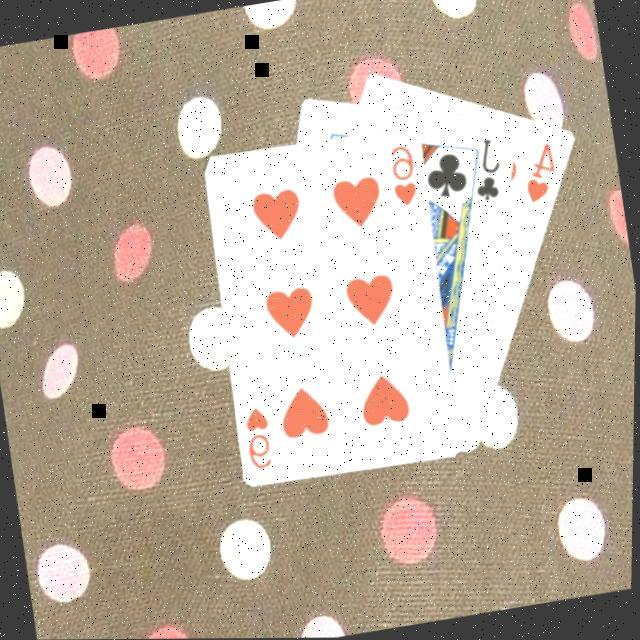4H: (516, 141, 565, 210)
6H: (384, 142, 424, 214), (240, 404, 280, 476)
JC: (465, 136, 510, 208)
